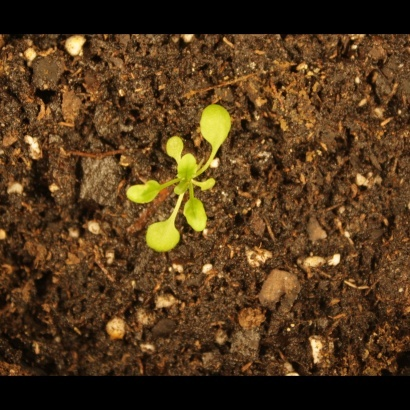leaf: (197, 99, 235, 152), (143, 212, 182, 258), (181, 194, 215, 239), (125, 176, 165, 206), (162, 132, 186, 166), (176, 150, 199, 180), (195, 175, 218, 198), (172, 175, 195, 198)
